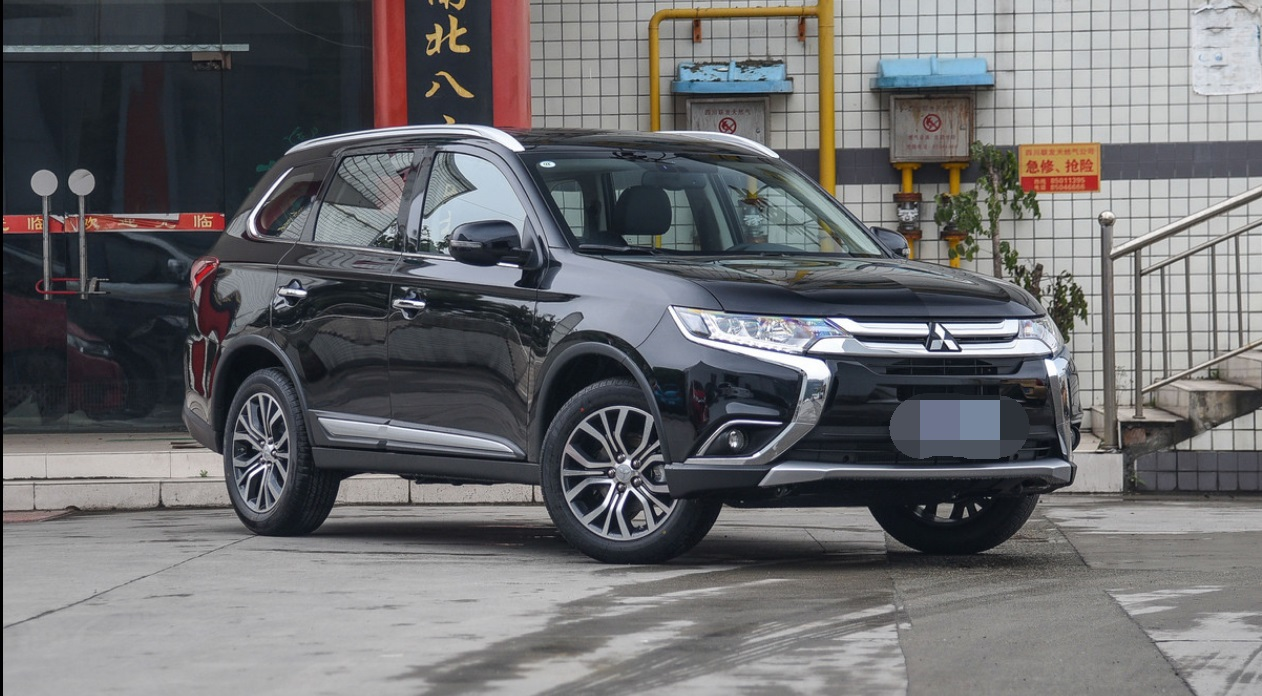SUV: (184, 118, 1085, 574)
